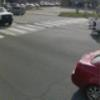cars: (72, 51, 100, 100)
